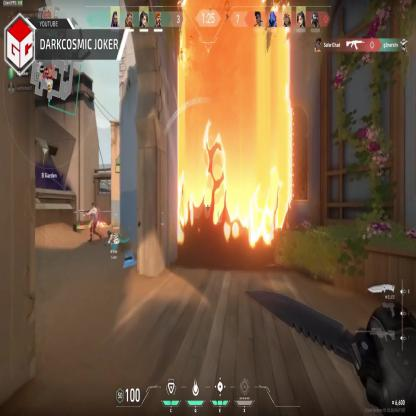enemy: (88, 201, 100, 243)
enemy_head: (91, 202, 94, 209)
